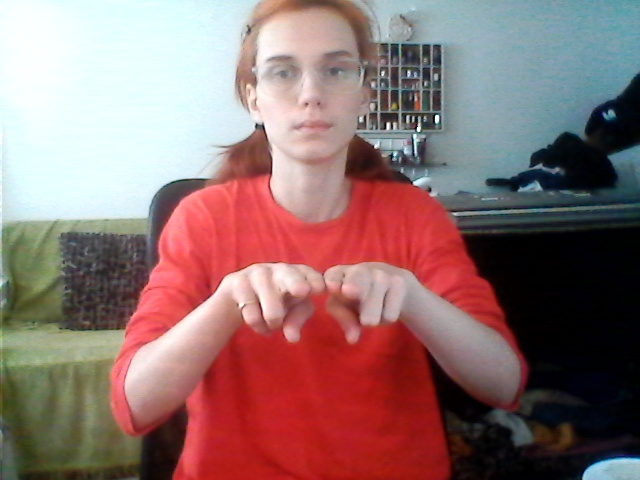brat: (227, 242, 420, 370)
